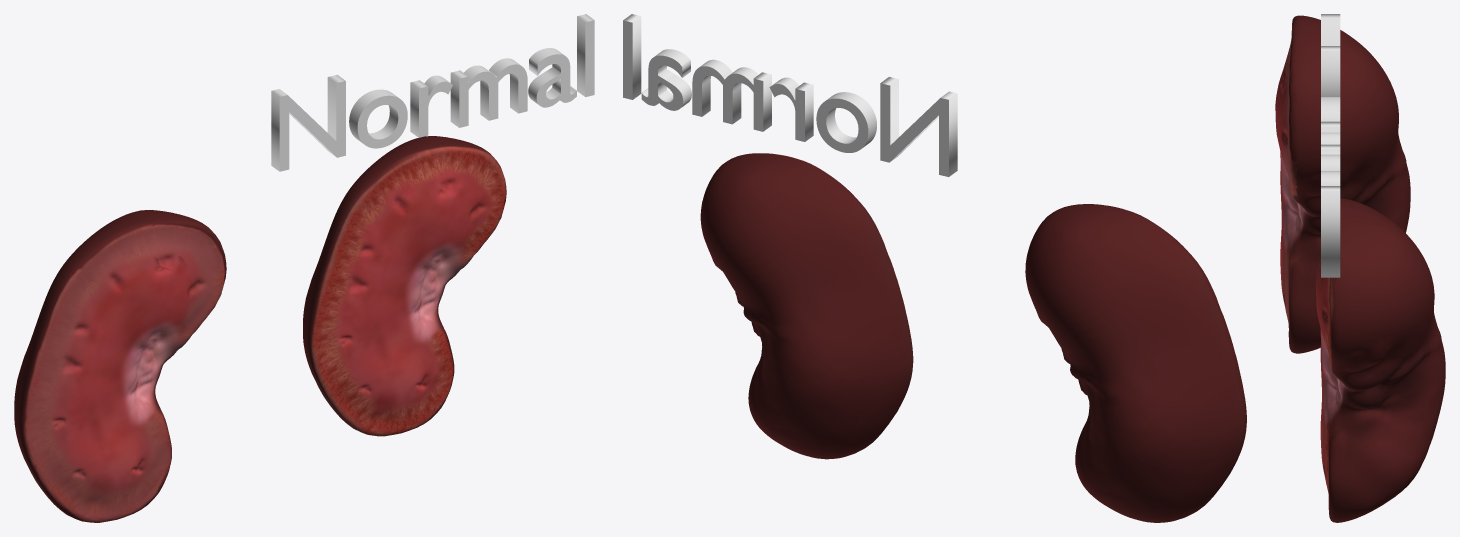
File: 2_atrofi.glb
3 renders of one model, left to right at view 1: azimuth 30°, elevation 25°; view 2: azimuth 150°, elevation 25°; view 3: azimuth 270°, elevation 25°, orthographic. The views are drawn at different scales.
Visible parts, largest first — view 1: bobrektemel.003, bobrektemel.002, Text; view 2: bobrektemel.003, bobrektemel.002, Text; view 3: bobrektemel.002, bobrektemel.003, Text.
Part boxes in pixels (<box>): bobrektemel.003: <box>14,210,226,522</box>; bobrektemel.002: <box>303,136,506,436</box>; Text: <box>271,14,594,171</box>; bobrektemel.003: <box>1025,204,1246,522</box>; bobrektemel.002: <box>700,153,913,459</box>; Text: <box>623,14,957,176</box>; bobrektemel.002: <box>1315,198,1445,522</box>; bobrektemel.003: <box>1275,15,1410,353</box>; Text: <box>1321,14,1340,277</box>.
Size of the model in its own units: 0.812 by 0.4947 by 0.1778.
Materials: 5 (3 with a texture image).
